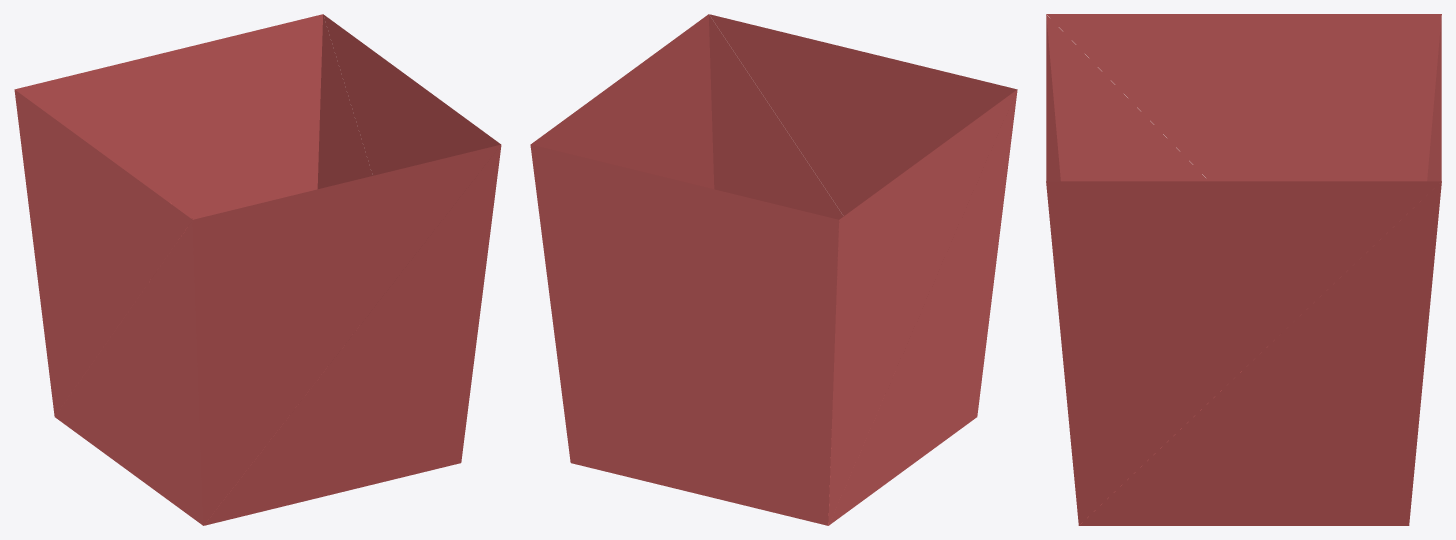
Rendered from rainbow_cruise.glb.
3 renders of one model, left to right at view 1: azimuth 30°, elevation 25°; view 2: azimuth 150°, elevation 25°; view 3: azimuth 270°, elevation 25°, orthographic. The views are drawn at different scales.
Parts seen in each view (by area): view 1: rainbow_cruise_col; view 2: rainbow_cruise_col; view 3: rainbow_cruise_col.
Part boxes in pixels (x1=…): rainbow_cruise_col: x1=14, y1=14, x2=501, y2=525; rainbow_cruise_col: x1=530, y1=14, x2=1017, y2=525; rainbow_cruise_col: x1=1046, y1=14, x2=1441, y2=525.
Size of the model in its own units: 23.01 by 22.99 by 23.01.
